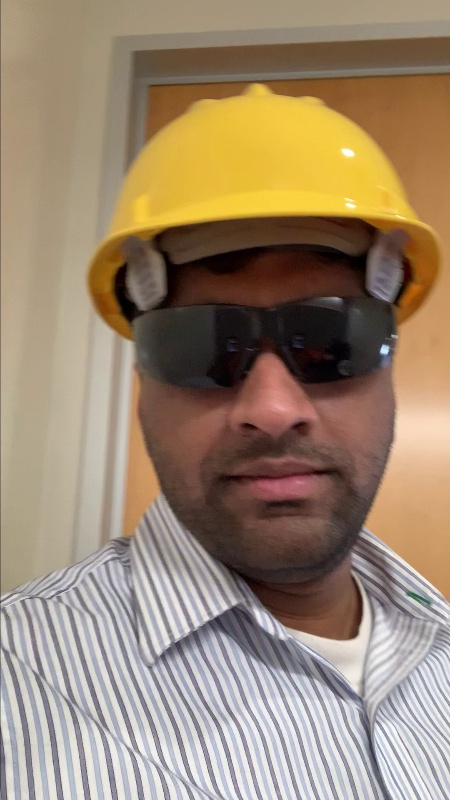glasses: (123, 301, 417, 391)
helmet: (85, 81, 443, 309)
